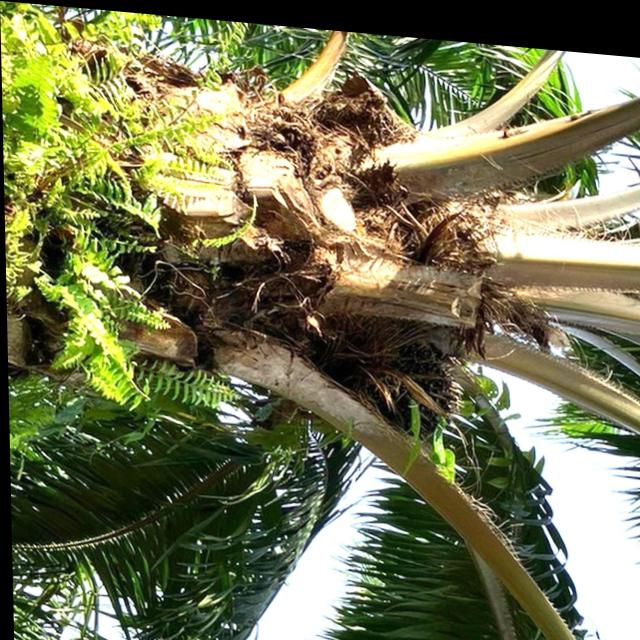unripe: (337, 318, 469, 439)
